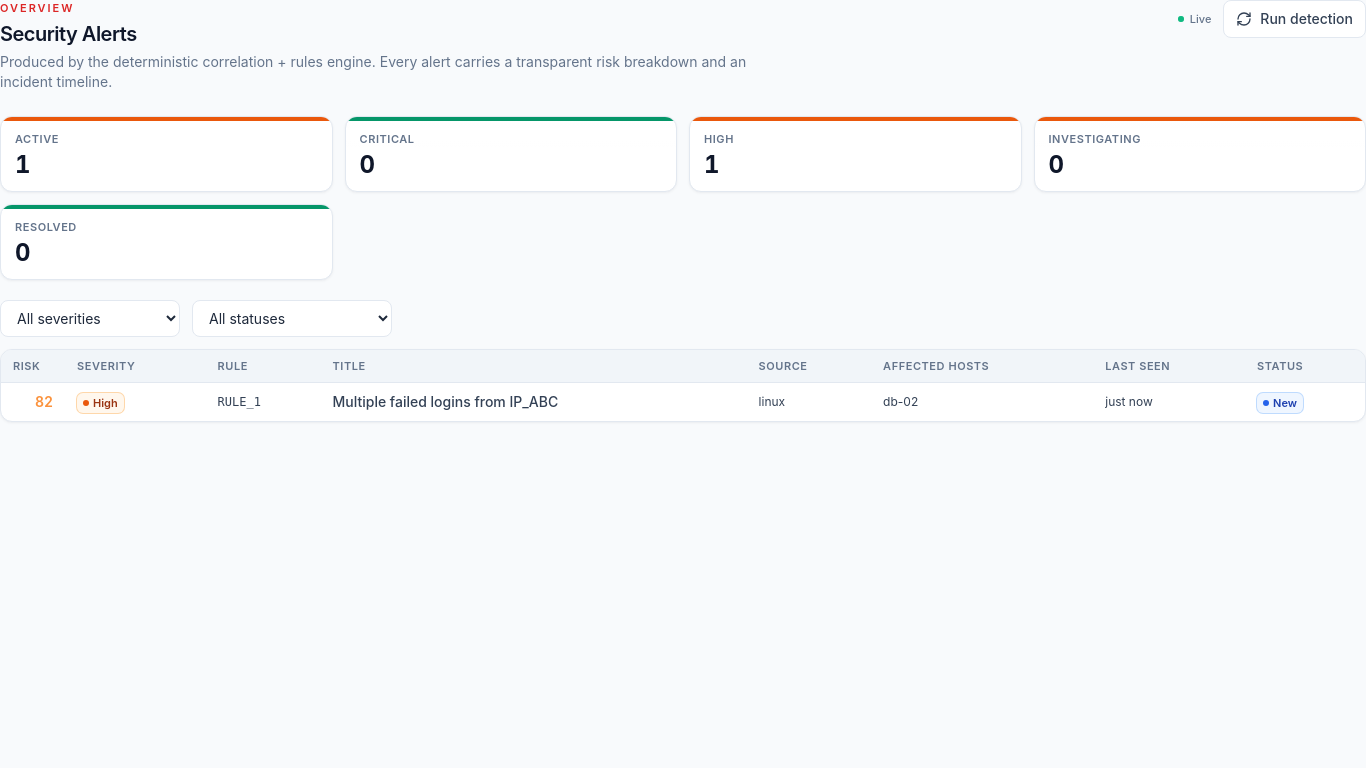
Test case: AlertsPage (SOC queue) › opens the alert investigation drawer with the correlation chain and risk meter
Click the text "Multiple failed logins from IP_ABC" at coordinates (534, 402), box [320,382,747,421]
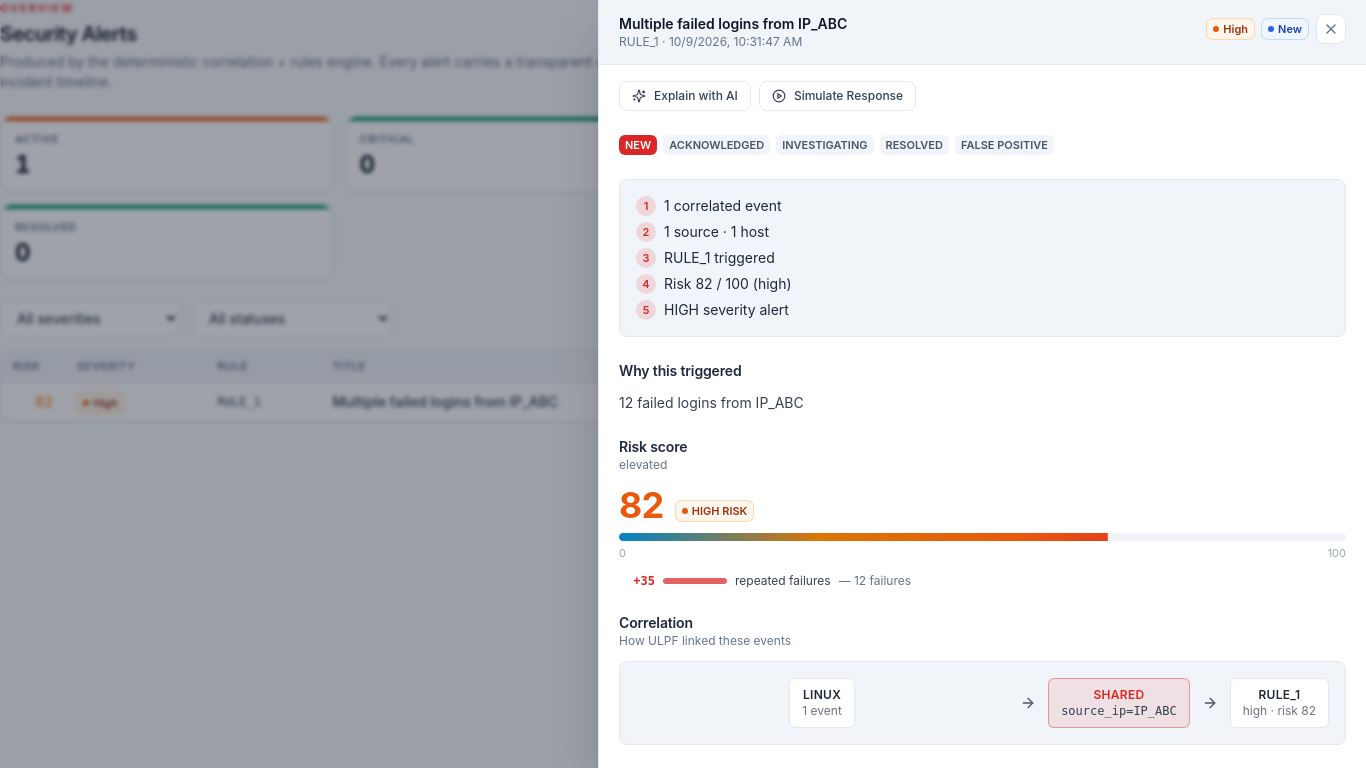
Expected: the heading "Why this triggered" is shown, [619,361,742,381]
Expected: the text "RULE_1 triggered" is shown, [664,248,775,268]
Expected: the text "repeated failures" is shown, [735,573,831,589]
